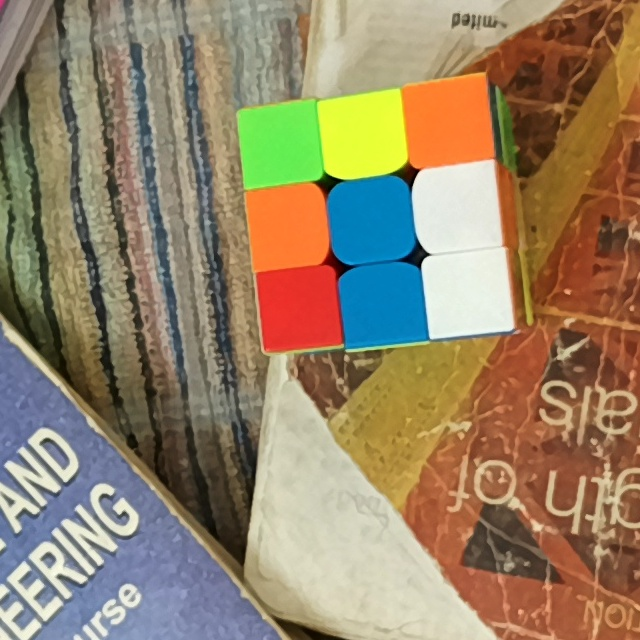tile: (414, 84, 485, 157), (265, 273, 335, 342), (432, 260, 503, 328), (427, 172, 494, 242), (336, 187, 406, 253), (245, 112, 314, 178), (254, 191, 320, 260), (349, 273, 418, 337), (328, 103, 399, 165)
